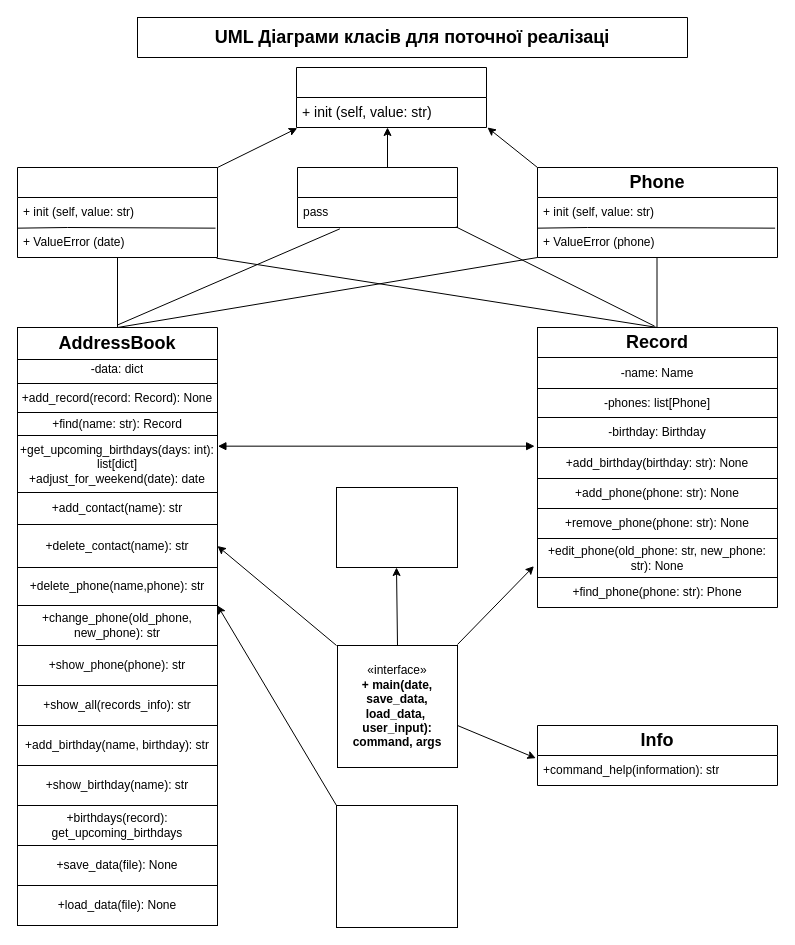
Image size: 795x945. Some labels were removed from this diagram. The box of each missing label's shape, as (x1, y1, x2, y2) in pixels:
Birthday: (16, 166, 218, 258)
Field: (296, 66, 486, 128)
Name: (296, 166, 458, 228)
«interface» +user_input(cmd, args): cmd, args: (336, 486, 458, 568)
«interface» @input_error(args, kwargs): ValueError, IndexError, KeyError: (336, 804, 458, 928)
